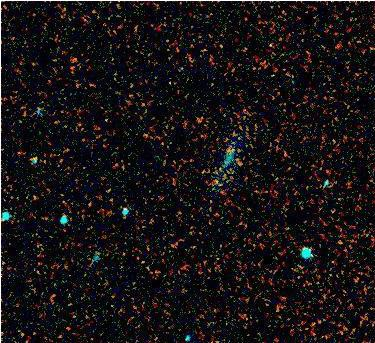star: (223, 151, 253, 181)
